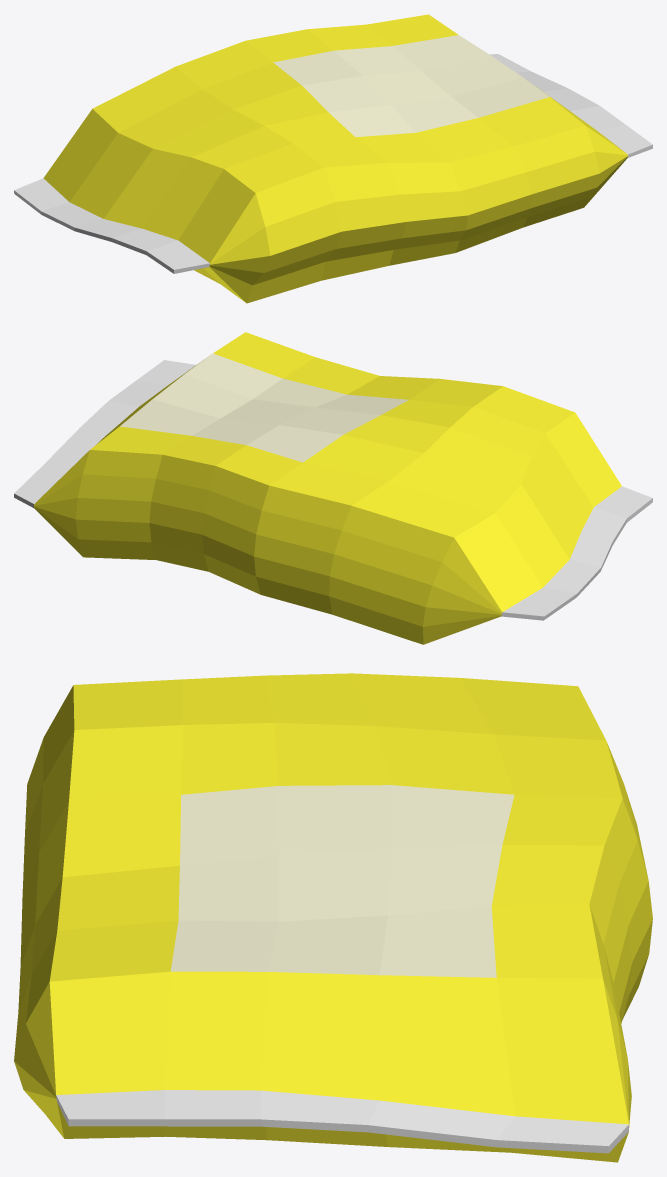
Rendered from ChipbagV1.fbx.
3 views of the same model, one above another, from view 1: azimuth 30°, elevation 25°; view 2: azimuth 150°, elevation 25°; view 3: azimuth 270°, elevation 25° (orthographic). The views are drawn at different scales.
Parts seen in each view (by area): view 1: Cube; view 2: Cube; view 3: Cube.
Part boxes in pixels (bbox=[...]): Cube: bbox=[14, 14, 652, 303]; Cube: bbox=[14, 332, 652, 644]; Cube: bbox=[14, 673, 652, 1162].
Bounding box in the file's own units: 439 × 723 × 174.
